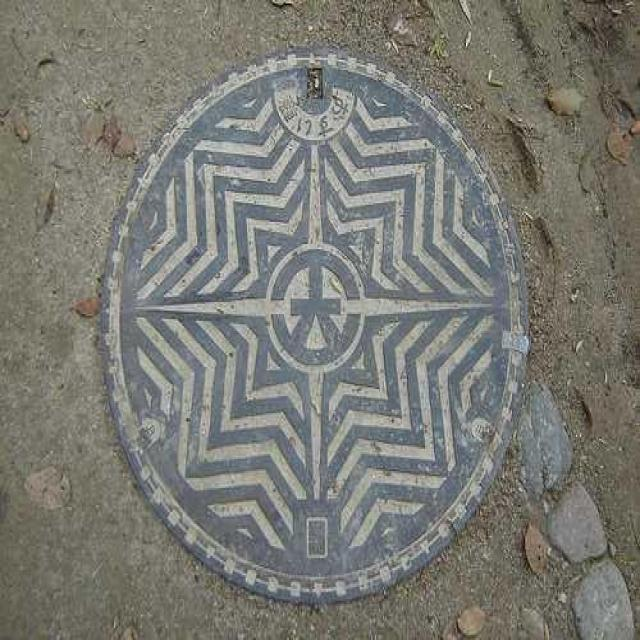manhole: (102, 53, 529, 602)
